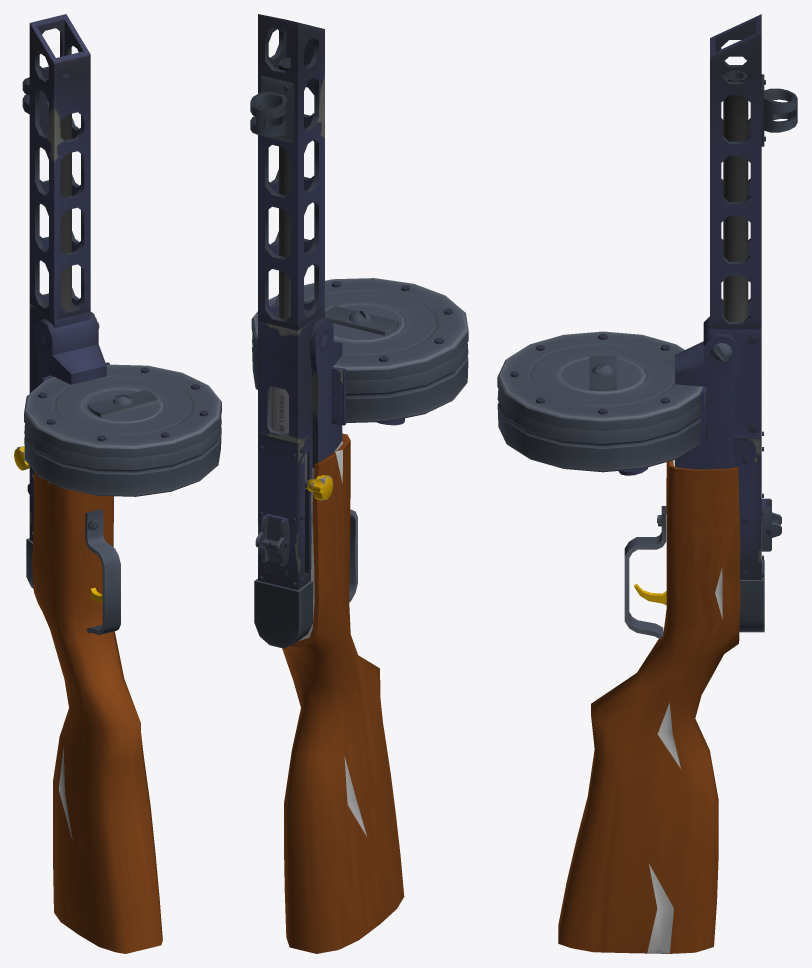
File: PPSh_PreviewDrum.fbx
3 renders of one model, left to right at view 1: azimuth 30°, elevation 25°; view 2: azimuth 150°, elevation 25°; view 3: azimuth 270°, elevation 25°, orthographic. The views are drawn at different scales.
Parts seen in each view (by area): view 1: PPSh_Base.001; view 2: PPSh_Base.001; view 3: PPSh_Base.001.
Boxes of the visible parts, box(x1,y1,x2,y2) form: PPSh_Base.001: box(14, 14, 221, 953); PPSh_Base.001: box(250, 14, 468, 953); PPSh_Base.001: box(497, 14, 797, 953).
Bounding box in the file's own units: 0.9007 × 4.32 × 1.28.
